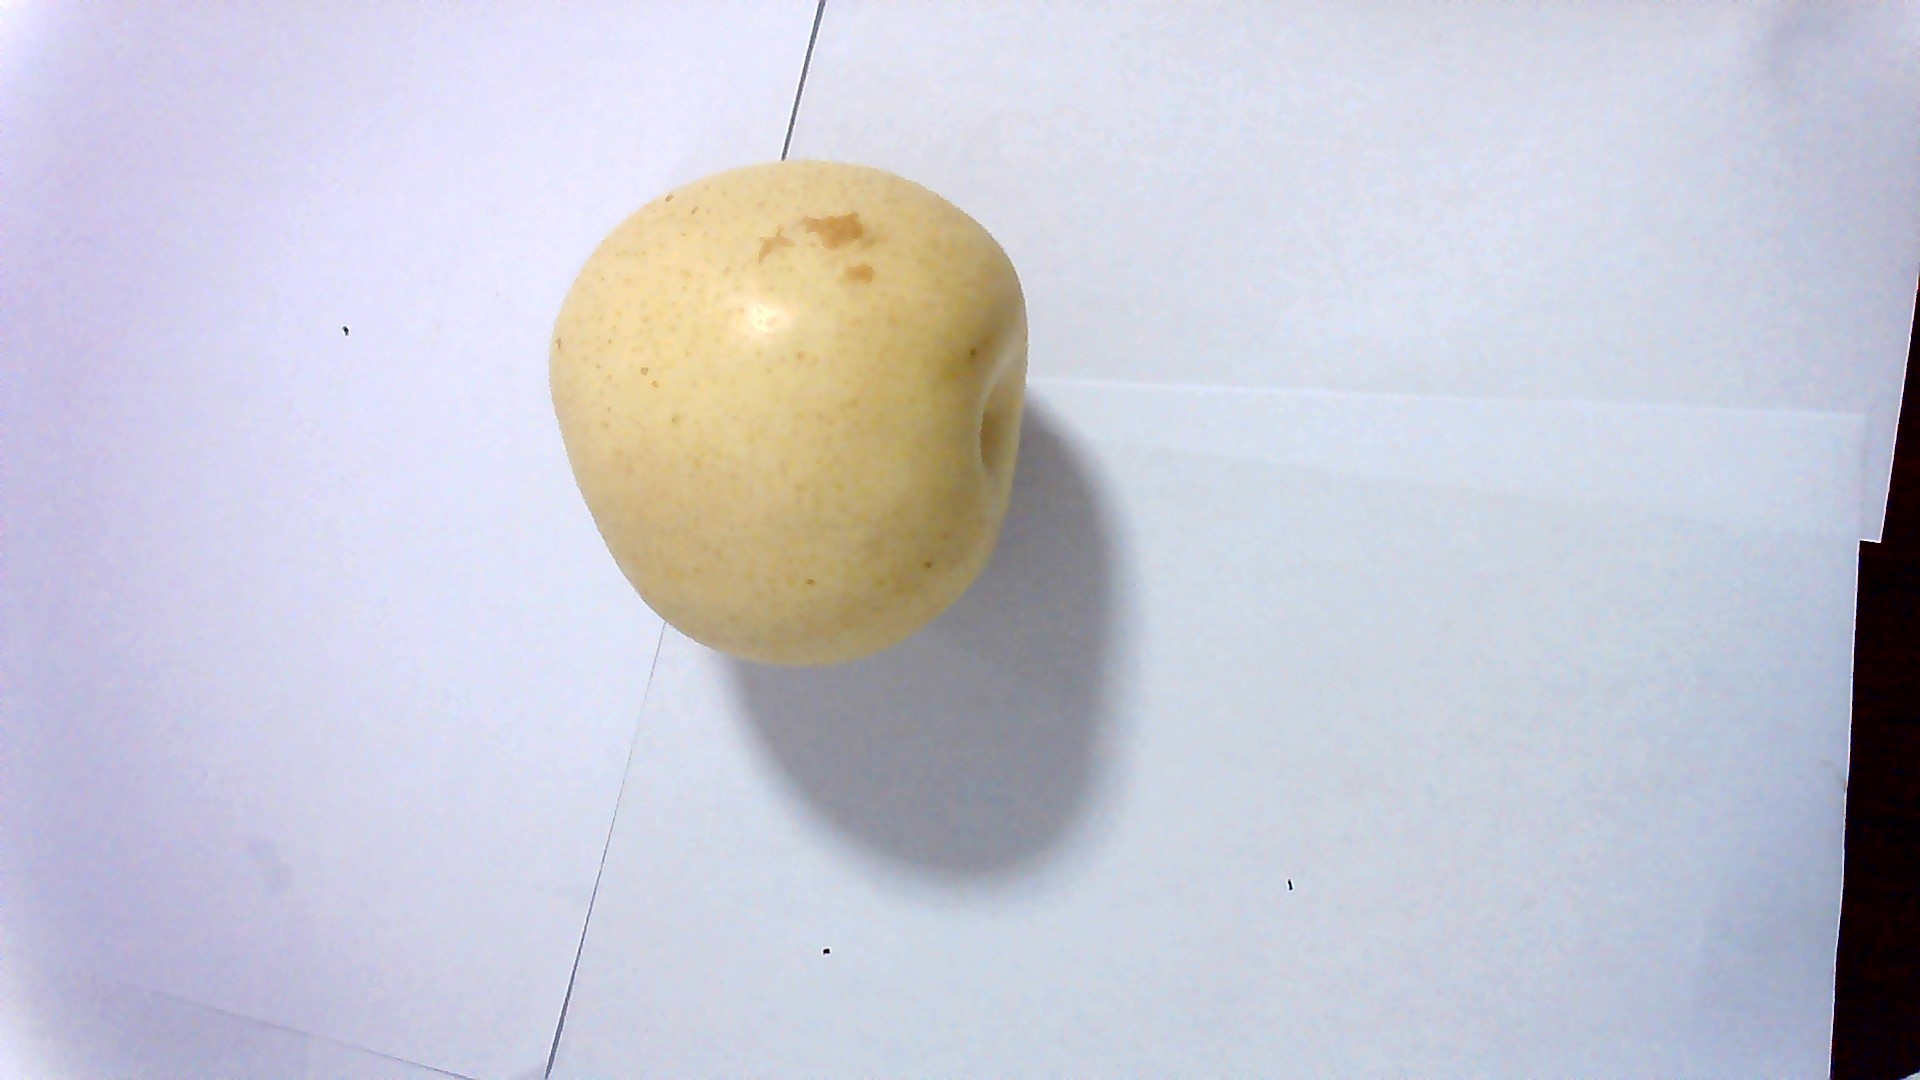pear: (564, 167, 1035, 650)
